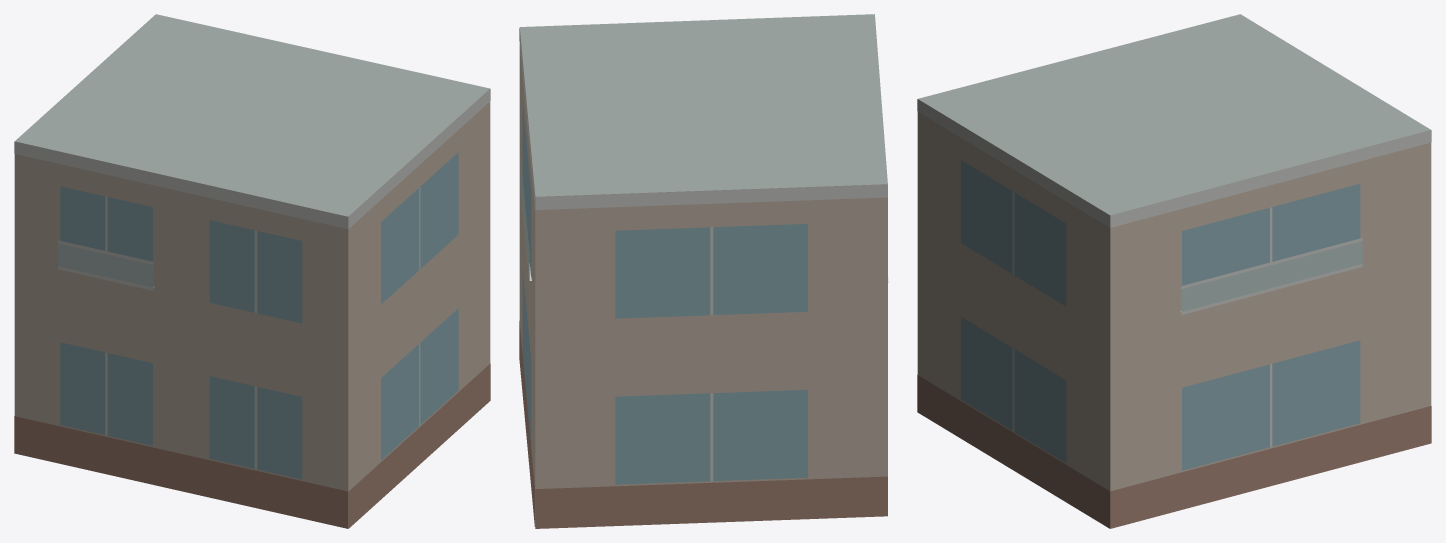
File: survey-upis-32616671.glb
The picture shows the model from 3 angles, left to right: view 1: azimuth 30°, elevation 25°; view 2: azimuth 150°, elevation 25°; view 3: azimuth 270°, elevation 25°; orthographic projection. The views are drawn at different scales.
Parts seen in each view (by area): view 1: survey-upis-32616671.tmp; view 2: survey-upis-32616671.tmp; view 3: survey-upis-32616671.tmp.
Boxes of the visible parts, box(x1,y1,x2,y2) form: survey-upis-32616671.tmp: box(14, 14, 490, 528); survey-upis-32616671.tmp: box(519, 14, 888, 528); survey-upis-32616671.tmp: box(917, 14, 1431, 528).
Size of the model in its own units: 8.42 by 6.1 by 9.07.
